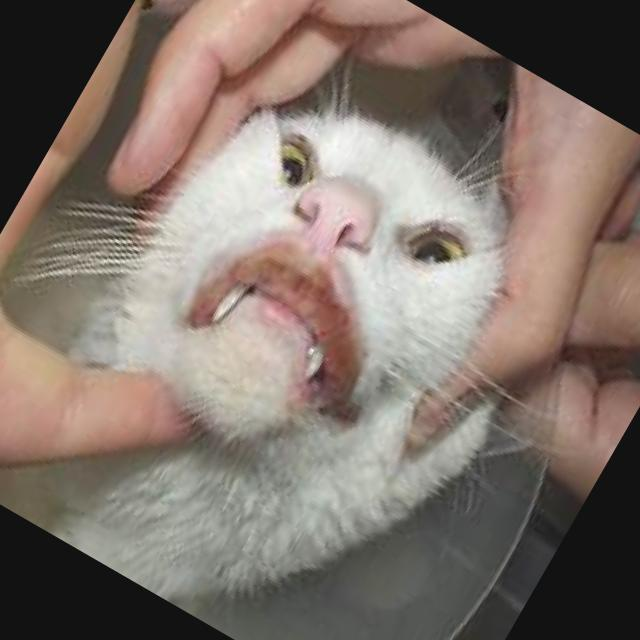cat-ulcer: (224, 236, 348, 334)
